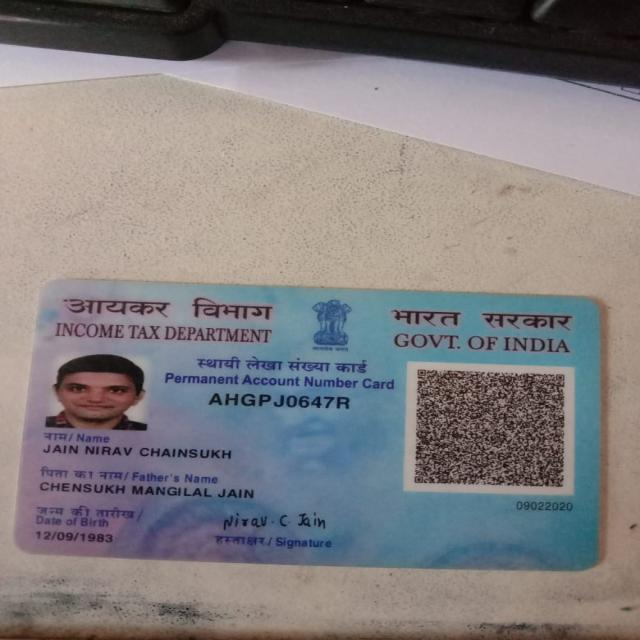pan_card: (15, 280, 601, 565)
